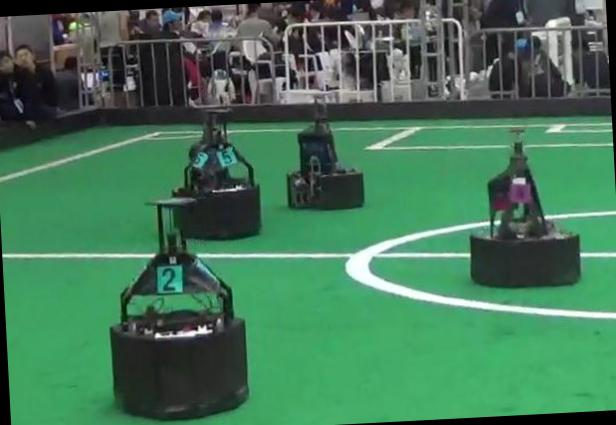robot: (109, 196, 247, 418), (471, 129, 582, 286), (173, 109, 260, 237), (287, 119, 362, 207)
